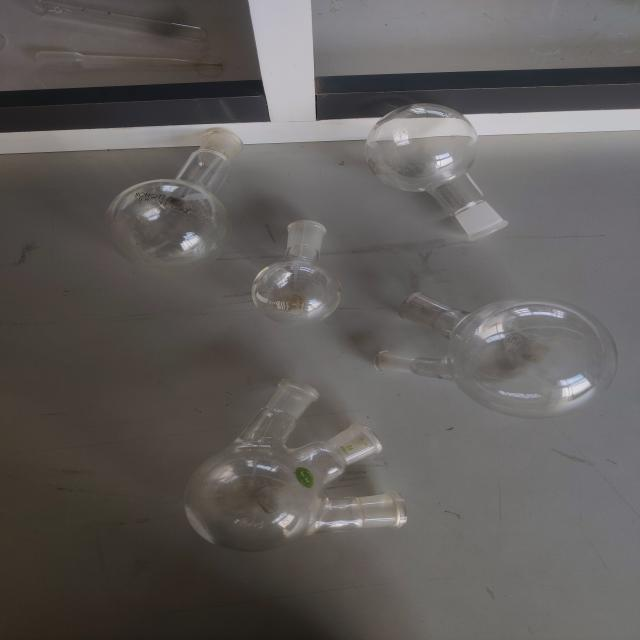Round_Bottom_Flask_Borosilicate_Glass_1_Neck: (352, 74, 556, 254), (79, 107, 270, 284), (244, 197, 357, 335)
Round_Bottom_Flask_Borosilicate_Glass_2_Neck: (361, 268, 626, 438)
Round_Bottom_Flask_Borosilicate_Glass_3_Neck: (167, 363, 430, 590)
